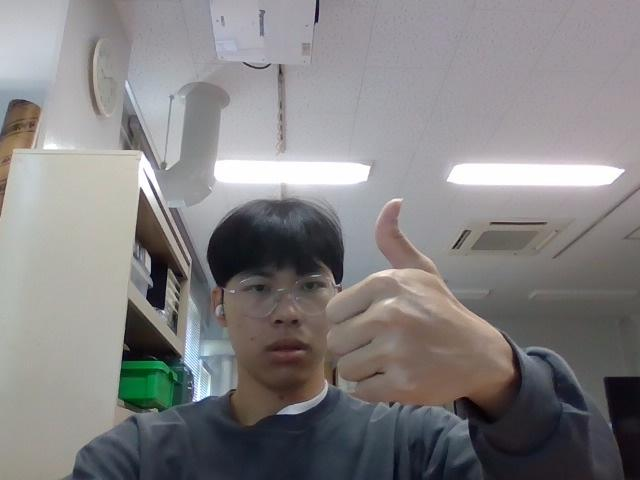thumbs-up: (320, 193, 523, 418)
